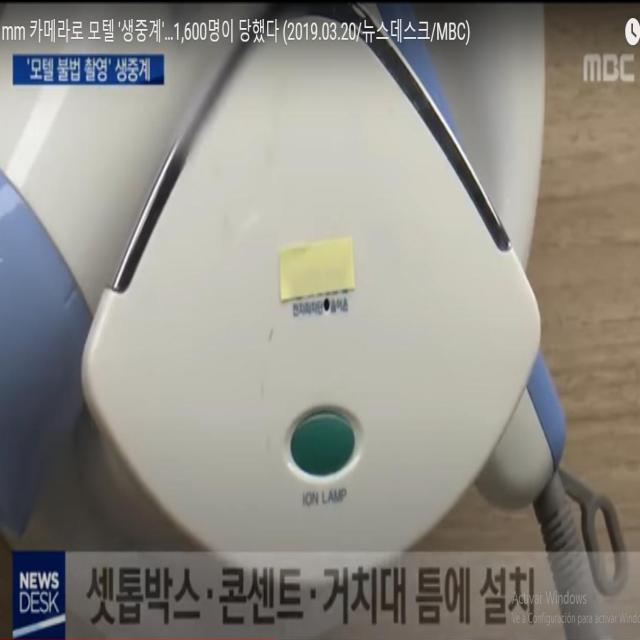hidden camera: (317, 287, 340, 328)
